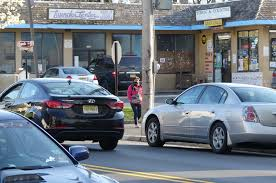mask: (133, 74, 140, 87)
